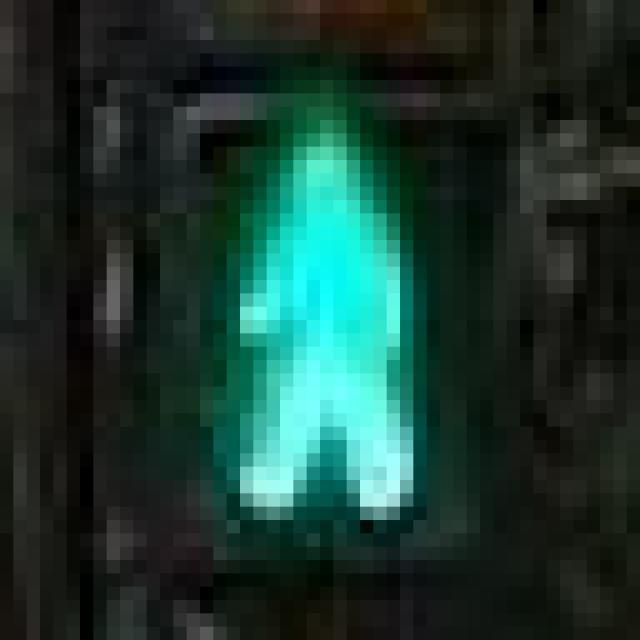green_light: (146, 93, 466, 520)
